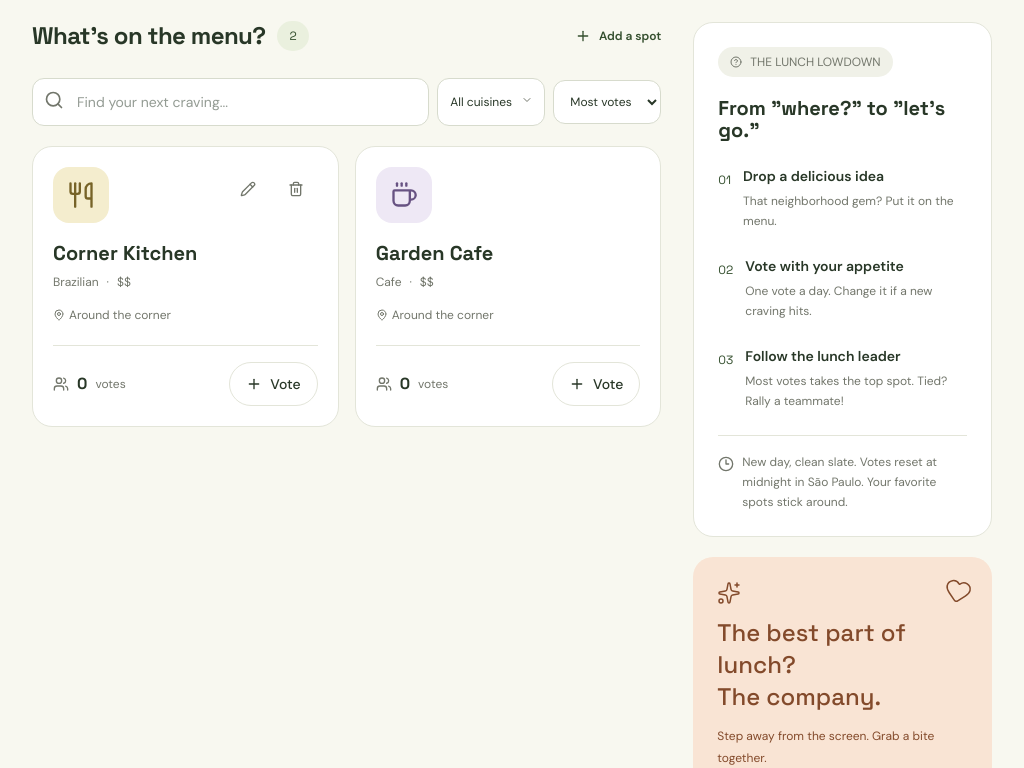
Lunch Picker › rolls a failed vote back and offers an explicit refresh
(page scrolled)
Click the button "Vote" below "Brazilian". click: (273, 384)
box: [229, 362, 318, 406]
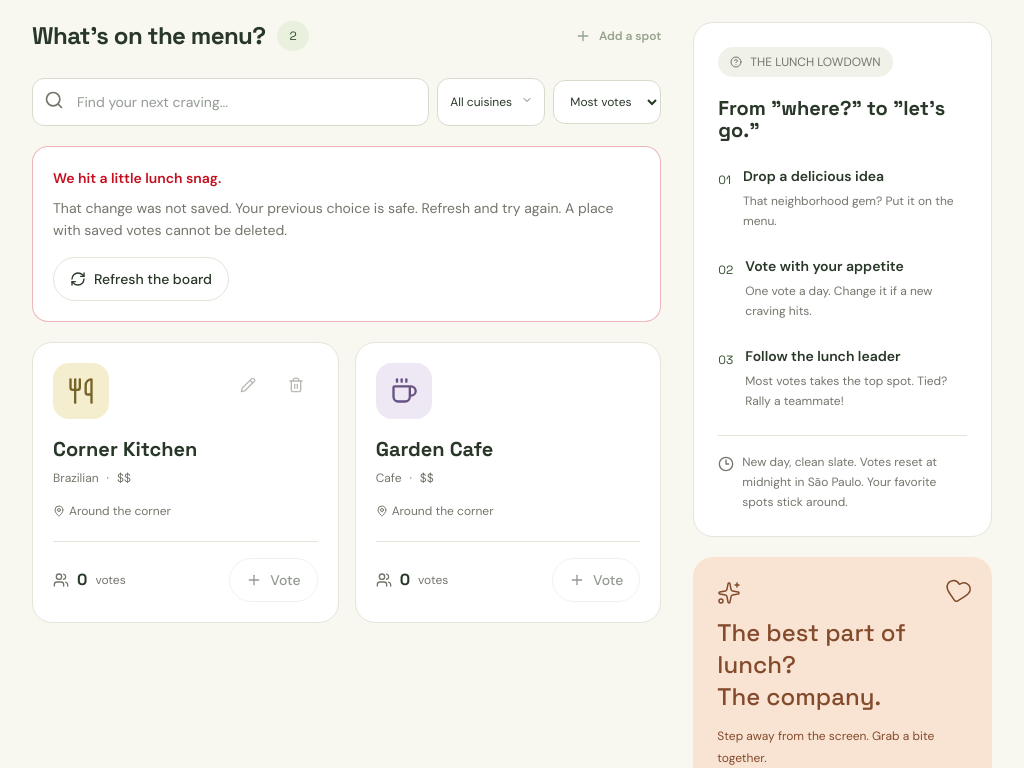
expect the message shows "Your previous choice is safe": met, box [53, 199, 614, 239]
Click the button "Refresh the board". click: (141, 279)
box: [53, 257, 229, 301]
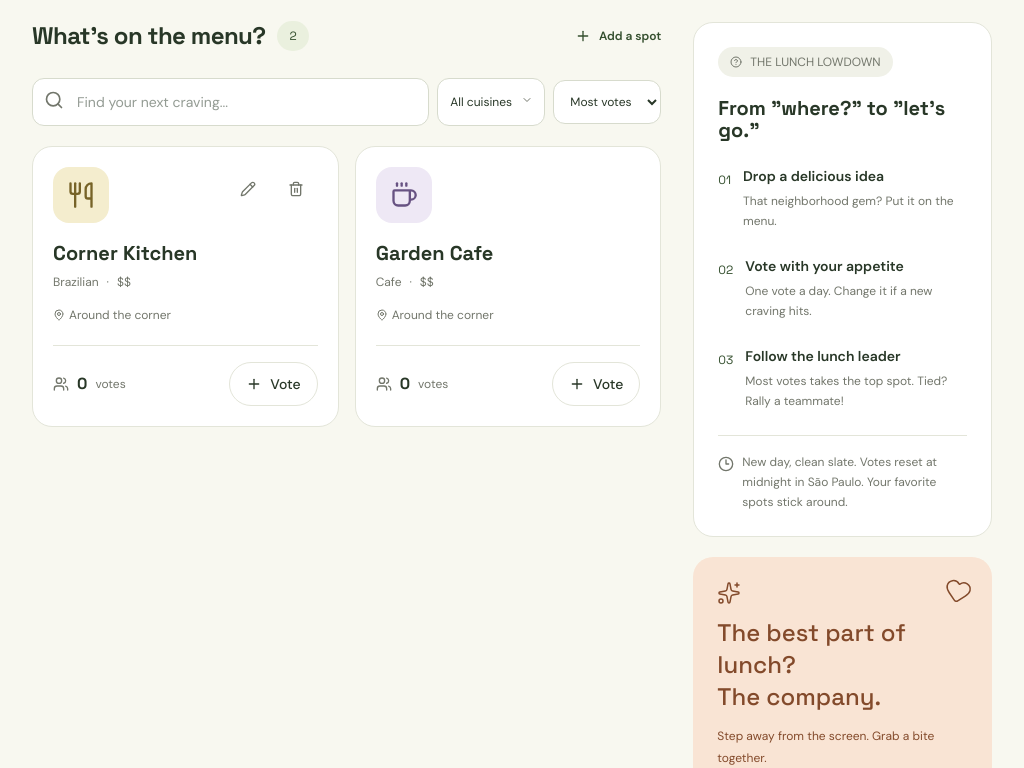
expect the message is gone: met
